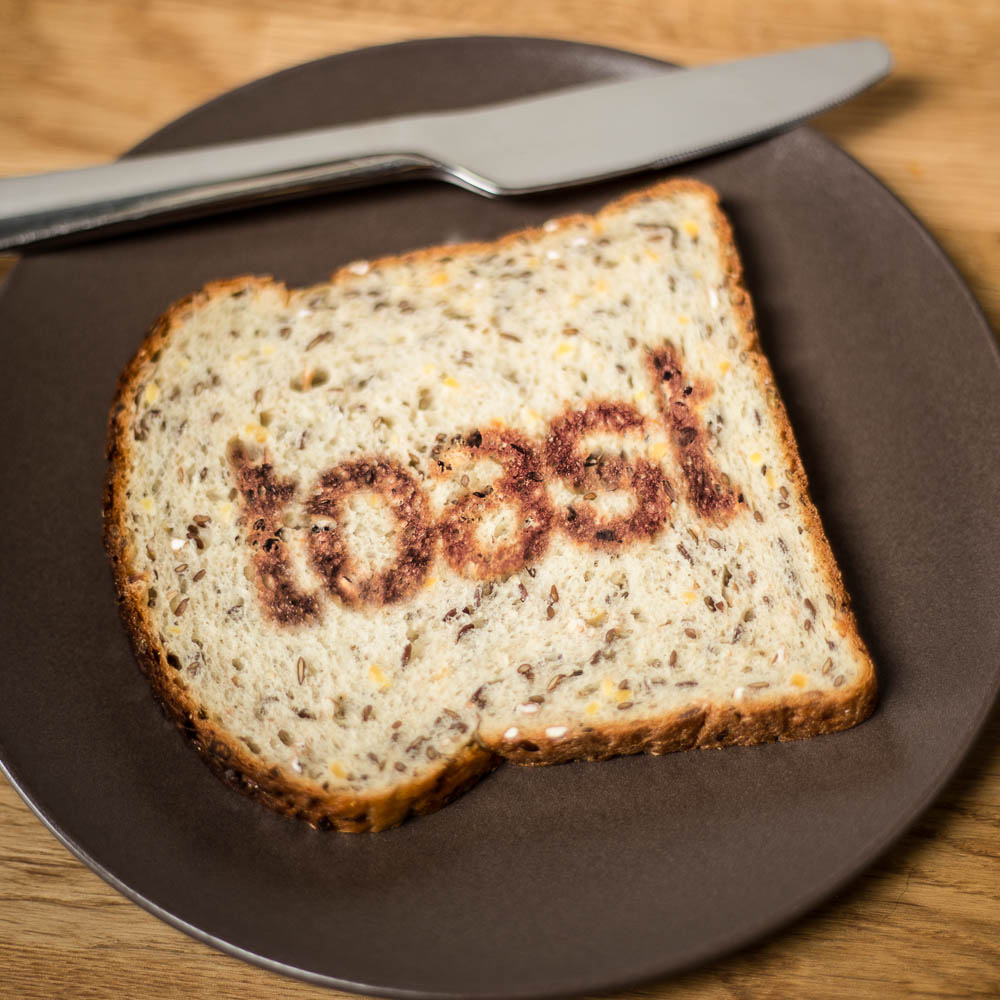slice of bread: (109, 256, 872, 816)
